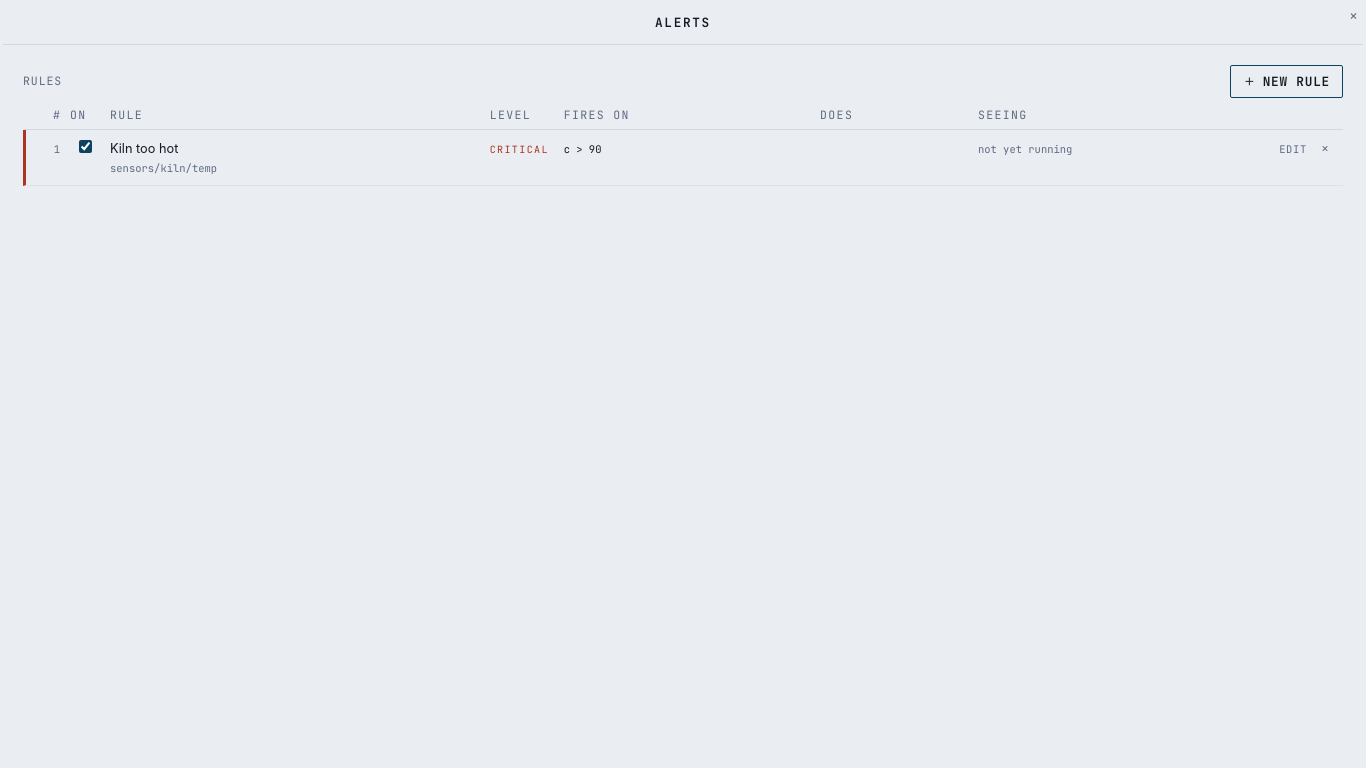
AlertsPanel › asks before throwing away a rule that has been filled in
Click the button "New rule": (1286, 81) [1230, 65, 1343, 98]
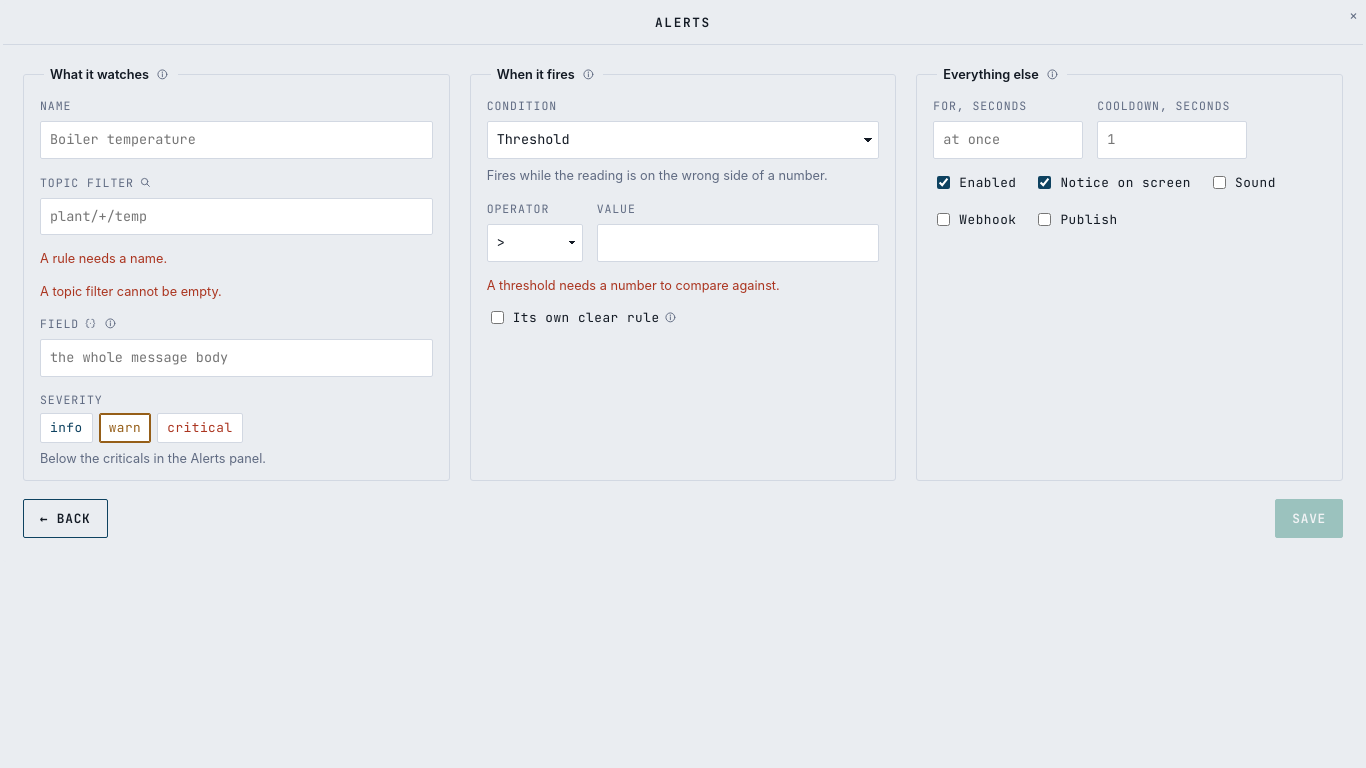
In the field labelled "Name": (236, 140) [40, 121, 433, 159], type "Kiln stopped talking"
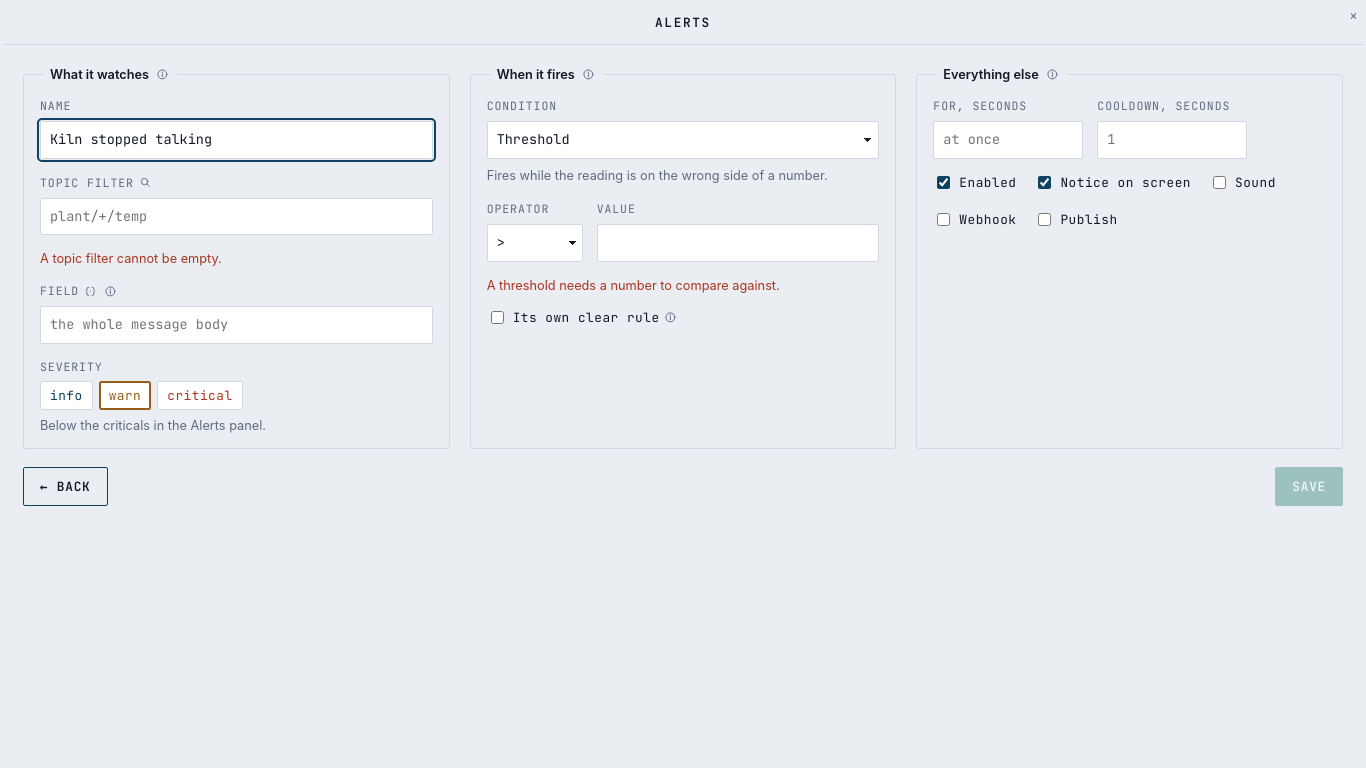
Click the button "← Back": (65, 486) [23, 466, 108, 506]
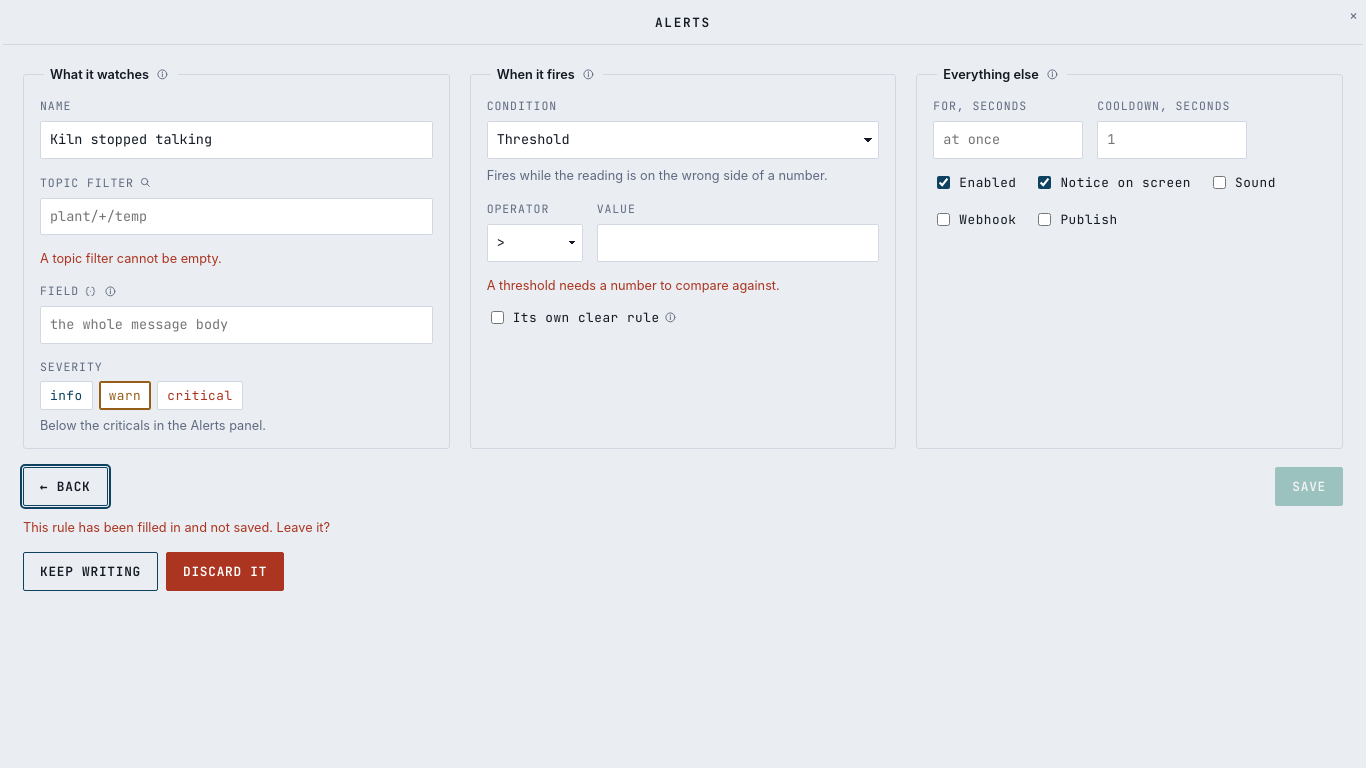
Result: the dialog named "Leave without saving?" is shown at [23, 520, 330, 591]
Click the button "Keep writing": (90, 572) [23, 552, 158, 591]
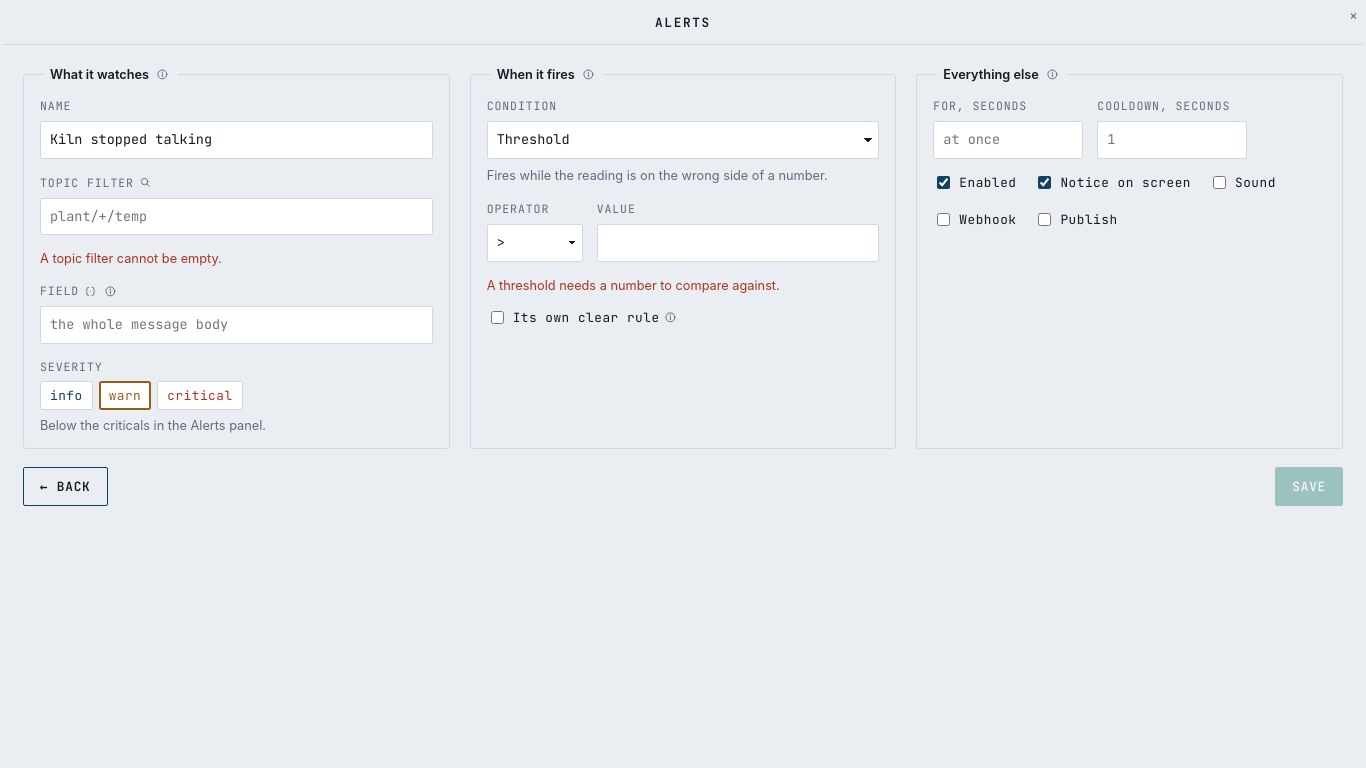
Result: the dialog is gone
